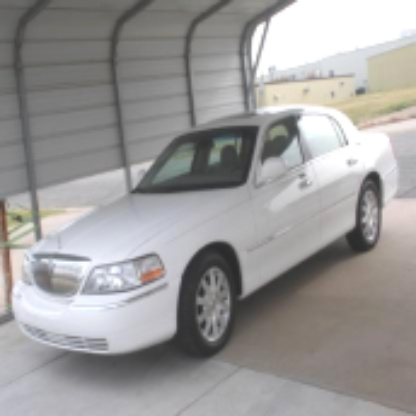Vehicle: (9, 99, 402, 369)
